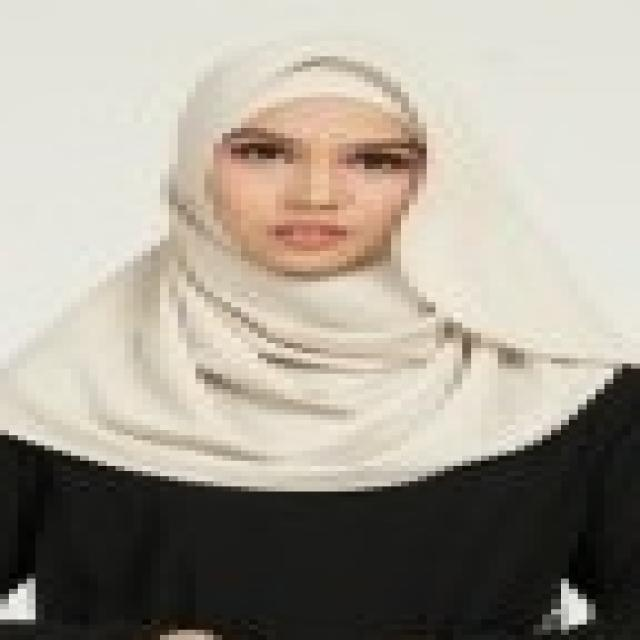head: (170, 33, 493, 284)
